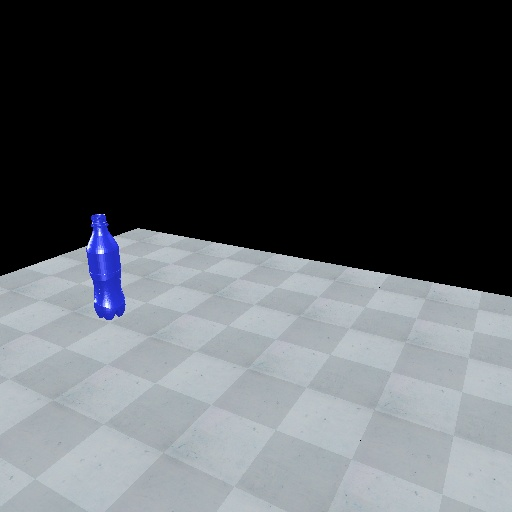bottle: (82, 211, 134, 324)
